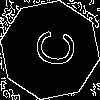C: (25, 25, 77, 70)
